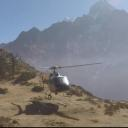helicopter: (26, 63, 105, 101)
